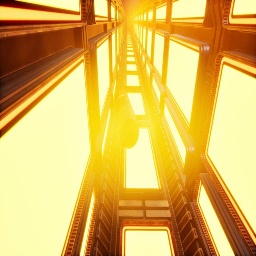NitrogenTank ,: (114, 88, 139, 149)
